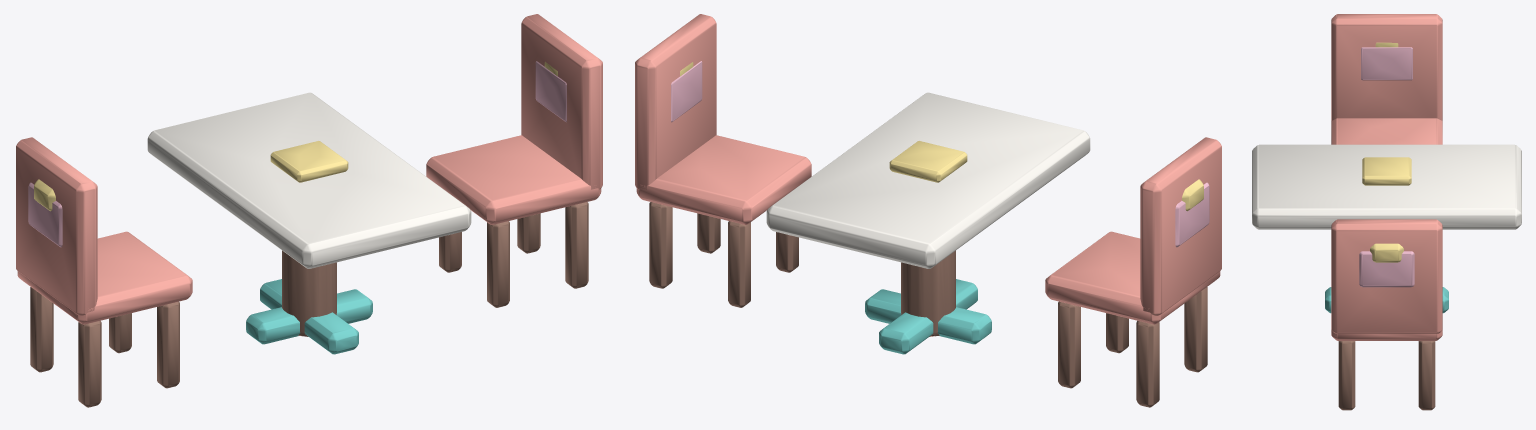
Rendered from dining_set_two_person.glb.
The picture shows the model from 3 angles, left to right: view 1: azimuth 30°, elevation 25°; view 2: azimuth 150°, elevation 25°; view 3: azimuth 270°, elevation 25°; orthographic projection. The views are drawn at different scales.
Visible parts, largest first — view 1: DiningSet_Table_Top, DiningSet_Chair_Left_Back, DiningSet_Chair_Right_Back, DiningSet_Chair_Right_Seat, DiningSet_Chair_Left_Seat, DiningSet_Table_Pedestal, DiningSet_Table_FootA, DiningSet_Table_CenterAccent, DiningSet_Table_FootB, DiningSet_Chair_Left_Leg_BR, DiningSet_Chair_Right_Leg_BL, DiningSet_Chair_Right_Leg_FL (+7 smaller); view 2: DiningSet_Table_Top, DiningSet_Chair_Left_Back, DiningSet_Chair_Right_Back, DiningSet_Chair_Right_Seat, DiningSet_Chair_Left_Seat, DiningSet_Table_Pedestal, DiningSet_Table_FootA, DiningSet_Table_CenterAccent, DiningSet_Table_FootB, DiningSet_Chair_Left_Leg_BL, DiningSet_Chair_Right_Leg_BR, DiningSet_Chair_Right_Leg_FR (+7 smaller); view 3: DiningSet_Table_Top, DiningSet_Chair_Right_Back, DiningSet_Chair_Left_Back, DiningSet_Chair_Left_Seat, DiningSet_Chair_Left_BackInset, DiningSet_Chair_Right_BackInset, DiningSet_Table_CenterAccent, DiningSet_Chair_Right_Leg_BL, DiningSet_Chair_Right_Leg_BR, DiningSet_Chair_Right_Seat, DiningSet_Chair_Right_BackBadge, DiningSet_Table_FootB.
Boxes of the visible parts, bbox=[...] form: DiningSet_Table_Top: bbox=[147, 92, 471, 268]; DiningSet_Chair_Left_Back: bbox=[16, 137, 97, 315]; DiningSet_Chair_Right_Back: bbox=[521, 14, 602, 189]; DiningSet_Chair_Right_Seat: bbox=[426, 135, 601, 224]; DiningSet_Chair_Left_Seat: bbox=[17, 231, 192, 324]; DiningSet_Table_Pedestal: bbox=[282, 250, 336, 336]; DiningSet_Table_FootA: bbox=[246, 289, 372, 344]; DiningSet_Table_CenterAccent: bbox=[270, 141, 348, 182]; DiningSet_Table_FootB: bbox=[260, 279, 358, 354]; DiningSet_Chair_Left_Leg_BR: bbox=[78, 320, 101, 407]; DiningSet_Chair_Right_Leg_BL: bbox=[565, 202, 588, 288]; DiningSet_Chair_Right_Leg_FL: bbox=[487, 221, 509, 307]; DiningSet_Table_Top: bbox=[766, 92, 1090, 268]; DiningSet_Chair_Left_Back: bbox=[1140, 137, 1221, 315]; DiningSet_Chair_Right_Back: bbox=[635, 14, 716, 189]; DiningSet_Chair_Right_Seat: bbox=[636, 135, 811, 224]; DiningSet_Chair_Left_Seat: bbox=[1045, 231, 1220, 324]; DiningSet_Table_Pedestal: bbox=[901, 250, 955, 336]; DiningSet_Table_FootA: bbox=[865, 289, 991, 344]; DiningSet_Table_CenterAccent: bbox=[889, 141, 967, 182]; DiningSet_Table_FootB: bbox=[879, 279, 977, 354]; DiningSet_Chair_Left_Leg_BL: bbox=[1136, 320, 1159, 407]; DiningSet_Chair_Right_Leg_BR: bbox=[649, 202, 672, 288]; DiningSet_Chair_Right_Leg_FR: bbox=[728, 221, 750, 307]; DiningSet_Table_Top: bbox=[1252, 144, 1521, 229]; DiningSet_Chair_Right_Back: bbox=[1331, 219, 1442, 333]; DiningSet_Chair_Left_Back: bbox=[1331, 14, 1442, 120]; DiningSet_Chair_Left_Seat: bbox=[1331, 118, 1442, 144]; DiningSet_Chair_Left_BackInset: bbox=[1361, 47, 1412, 80]; DiningSet_Chair_Right_BackInset: bbox=[1359, 251, 1414, 287]; DiningSet_Table_CenterAccent: bbox=[1362, 157, 1411, 185]; DiningSet_Chair_Right_Leg_BL: bbox=[1338, 341, 1355, 410]; DiningSet_Chair_Right_Leg_BR: bbox=[1418, 341, 1435, 410]; DiningSet_Chair_Right_Seat: bbox=[1331, 330, 1442, 340]; DiningSet_Chair_Right_BackBadge: bbox=[1370, 243, 1403, 262]; DiningSet_Table_FootB: bbox=[1325, 287, 1448, 313].
Size of the model in its own units: 2.6 by 1.06 by 1.36.
